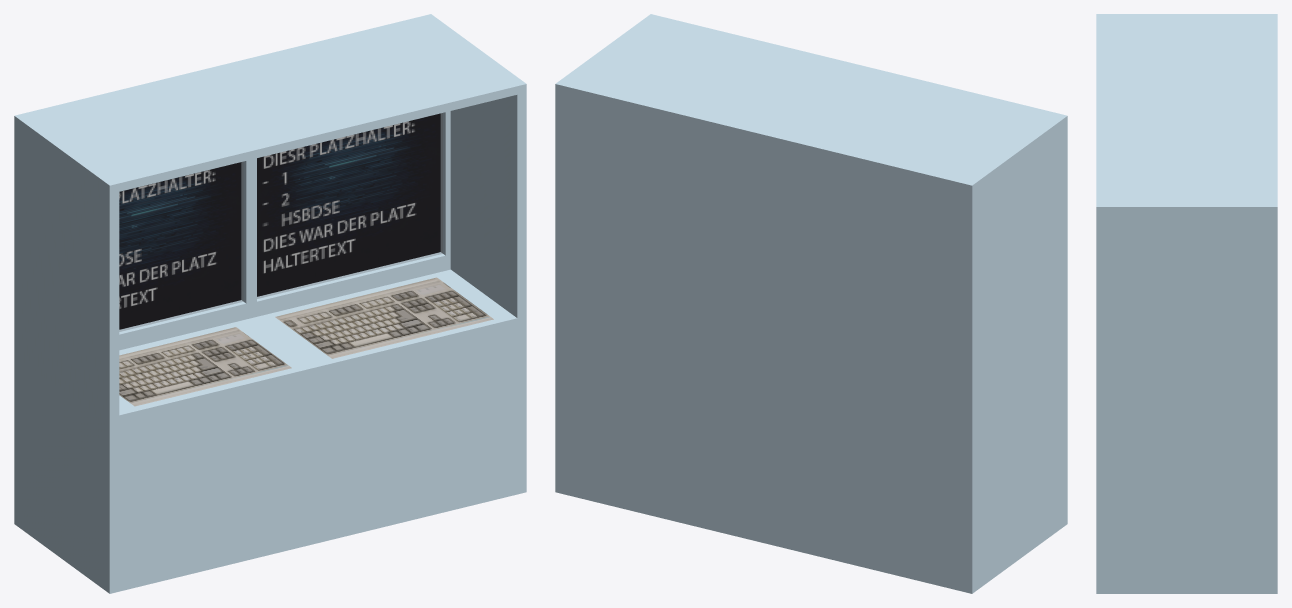
File: EB_CommsStation.fbx
3 views of the same model, side by side, from view 1: azimuth 30°, elevation 25°; view 2: azimuth 150°, elevation 25°; view 3: azimuth 270°, elevation 25° (orthographic). The views are drawn at different scales.
Parts seen in each view (by area): view 1: CommsStation; view 2: CommsStation; view 3: CommsStation.
Boxes of the visible parts, <box> form: CommsStation: <box>14,14,526,593</box>; CommsStation: <box>555,14,1067,593</box>; CommsStation: <box>1096,14,1277,593</box>.
Size of the model in its own units: 144 by 135 by 57.27.
